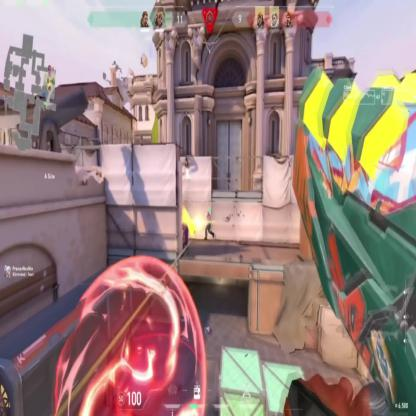enemy: (205, 211, 214, 238), (181, 222, 188, 254)
enemy_head: (184, 223, 187, 230), (207, 211, 209, 216)
